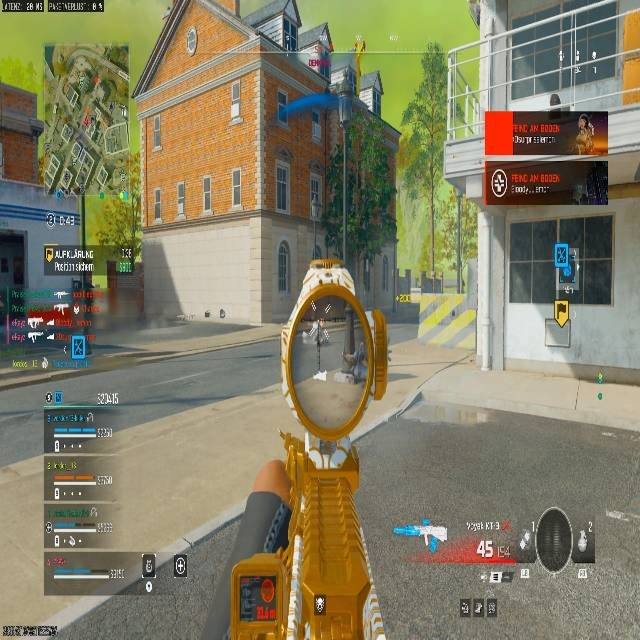player: (552, 240, 577, 284), (314, 320, 329, 347)
